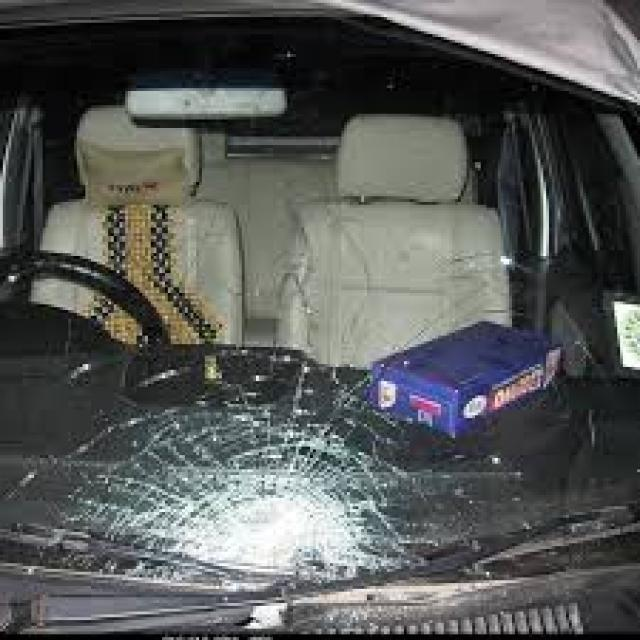damaged-windscreen: (10, 2, 640, 626)
